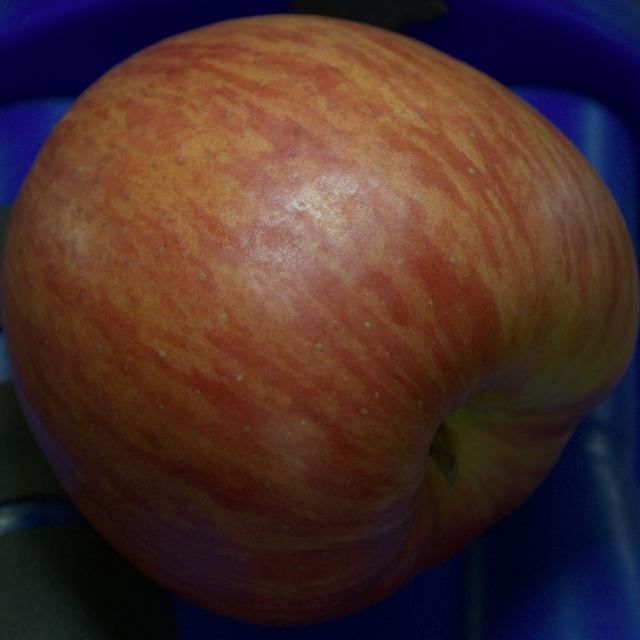apple: (0, 15, 639, 625)
